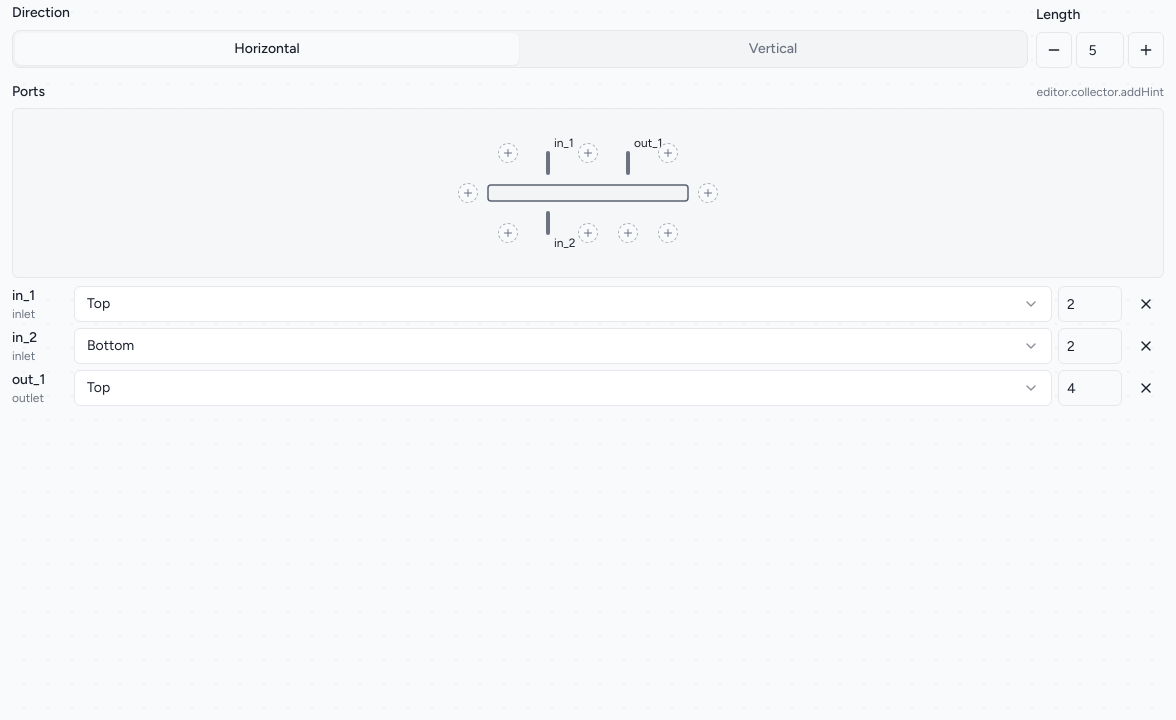
it: CollectorEditor › puts no port on the face and cell another port has, and says so
Note: The face in_2 holds on the second cell is not in_1's to pick.
Click the dropdown named "Face of port in_1": (99, 304) [74,286,1052,322]
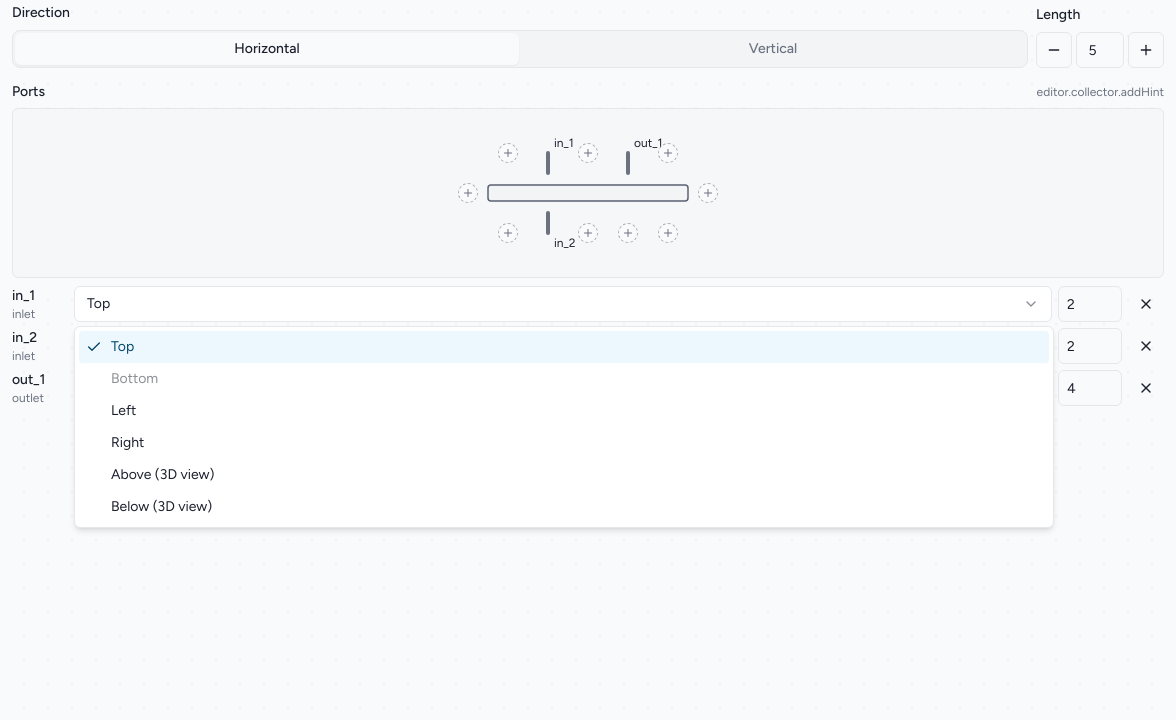
Press Escape
Replace the text in the number field named "Cell of port out_1" with "2": (1090, 388) [1058,370,1122,406]
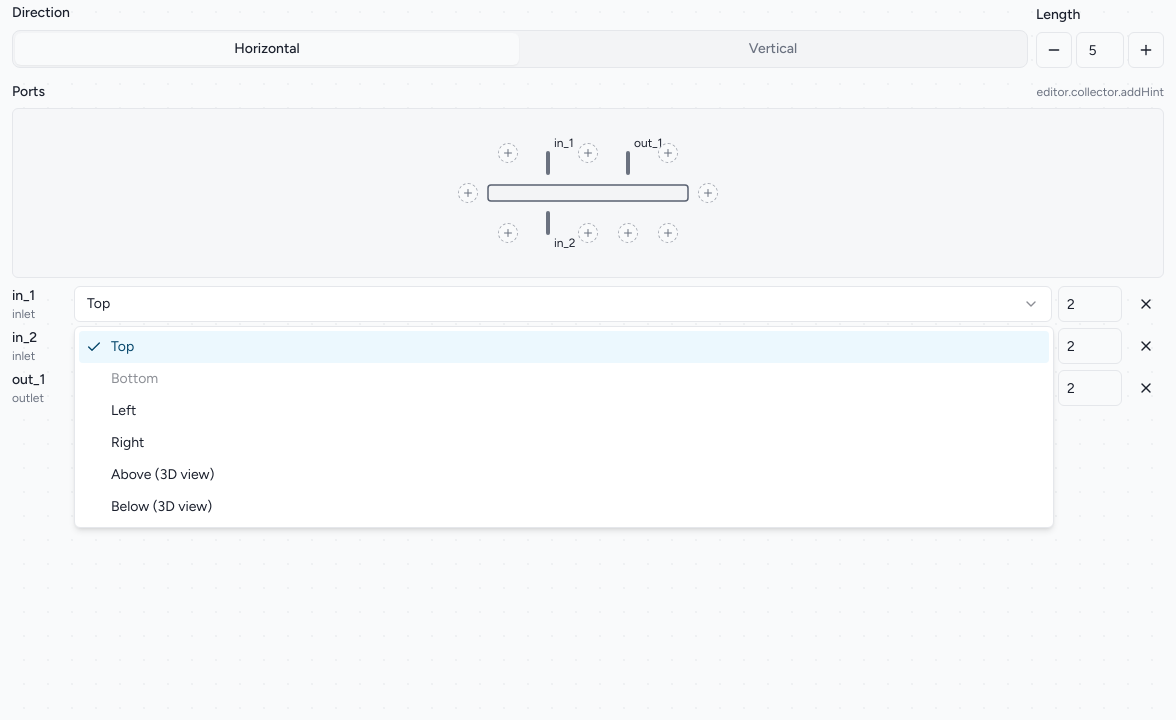
Leave the number field named "Cell of port out_1", box [1058,370,1122,406]
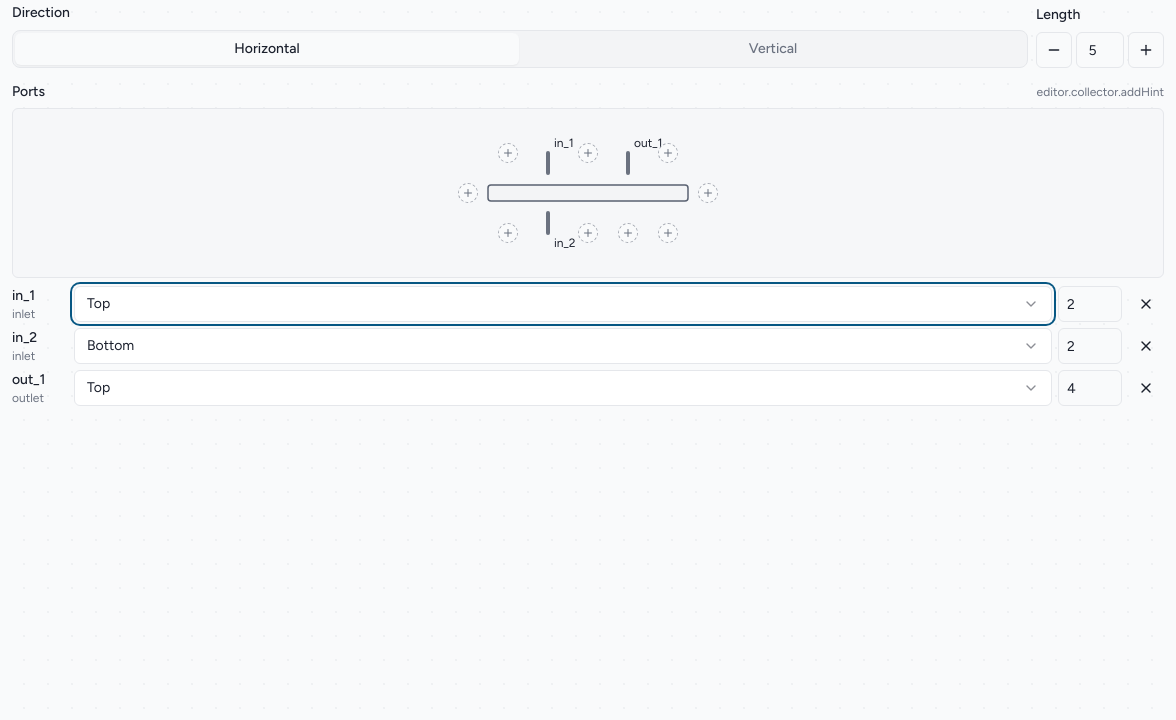
Result: the number field named "Cell of port out_1" holds "4" at [1058,370,1122,406]
